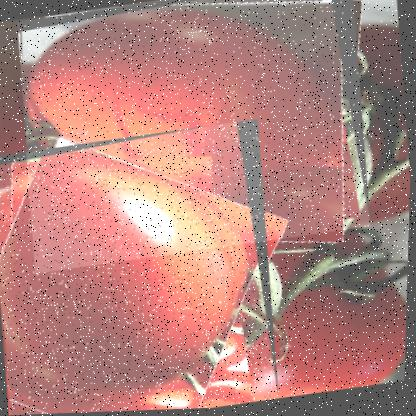tomato: (10, 0, 378, 274), (0, 117, 289, 415)
